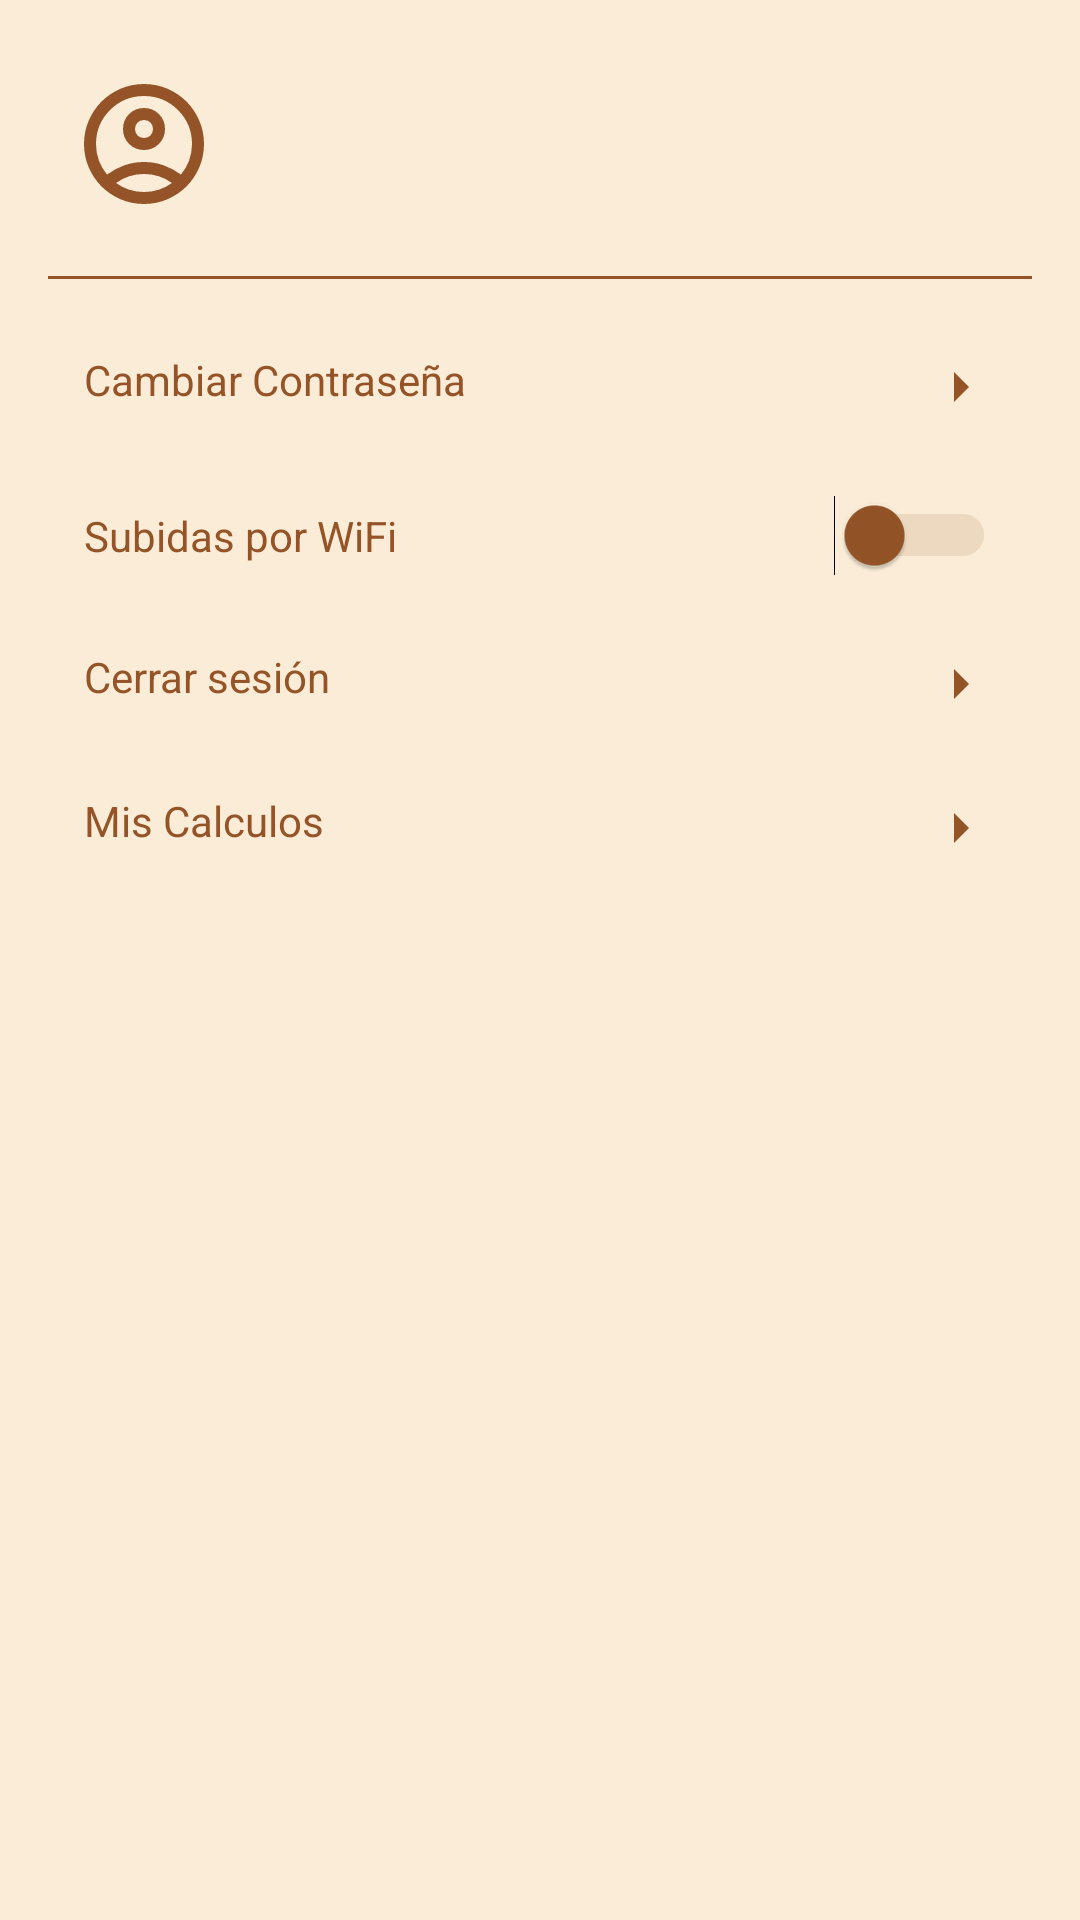

Named icons in this screenshot (1080w x 1920h) and their centers, [x,y]:
account circle: [144,144]
